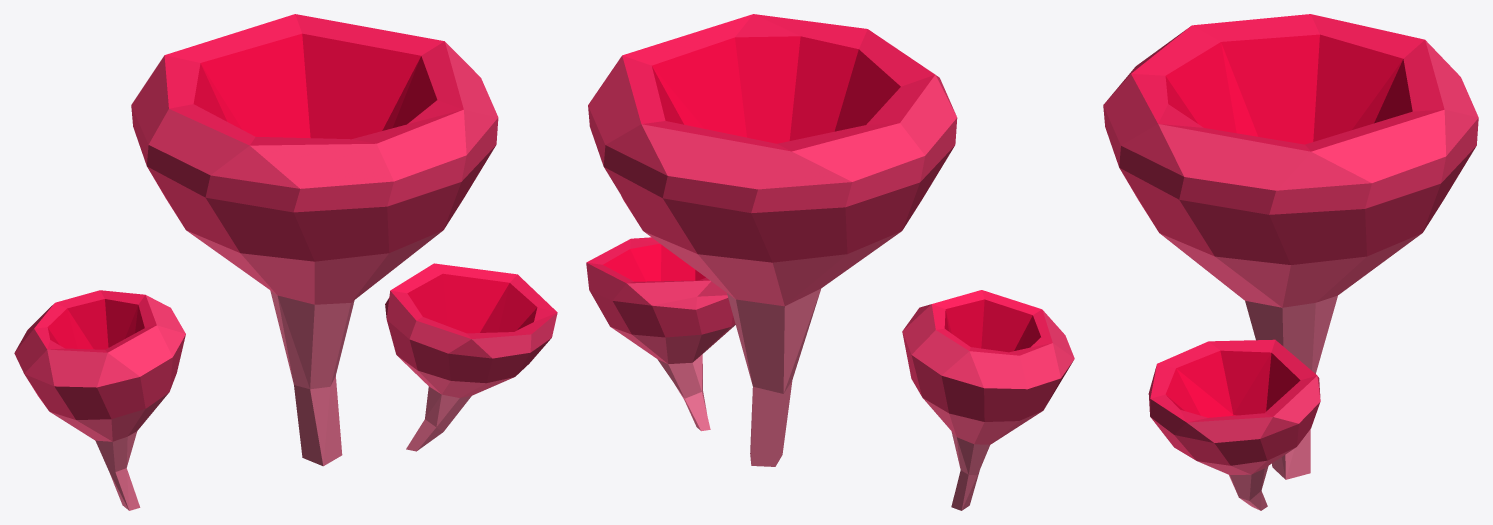
The model's file is SM_Mushroom_04.glb.
3 renders of one model, left to right at view 1: azimuth 30°, elevation 25°; view 2: azimuth 150°, elevation 25°; view 3: azimuth 270°, elevation 25°, orthographic. The views are drawn at different scales.
Parts seen in each view (by area): view 1: SM_Mushroom_04; view 2: SM_Mushroom_04; view 3: SM_Mushroom_04.
Part boxes in pixels (<box>): SM_Mushroom_04: <box>14,14,557,510</box>; SM_Mushroom_04: <box>586,14,1074,510</box>; SM_Mushroom_04: <box>1103,14,1478,510</box>.
Size of the model in its own units: 0.1742 by 0.1291 by 0.1136.
1 material, 1 textured.
